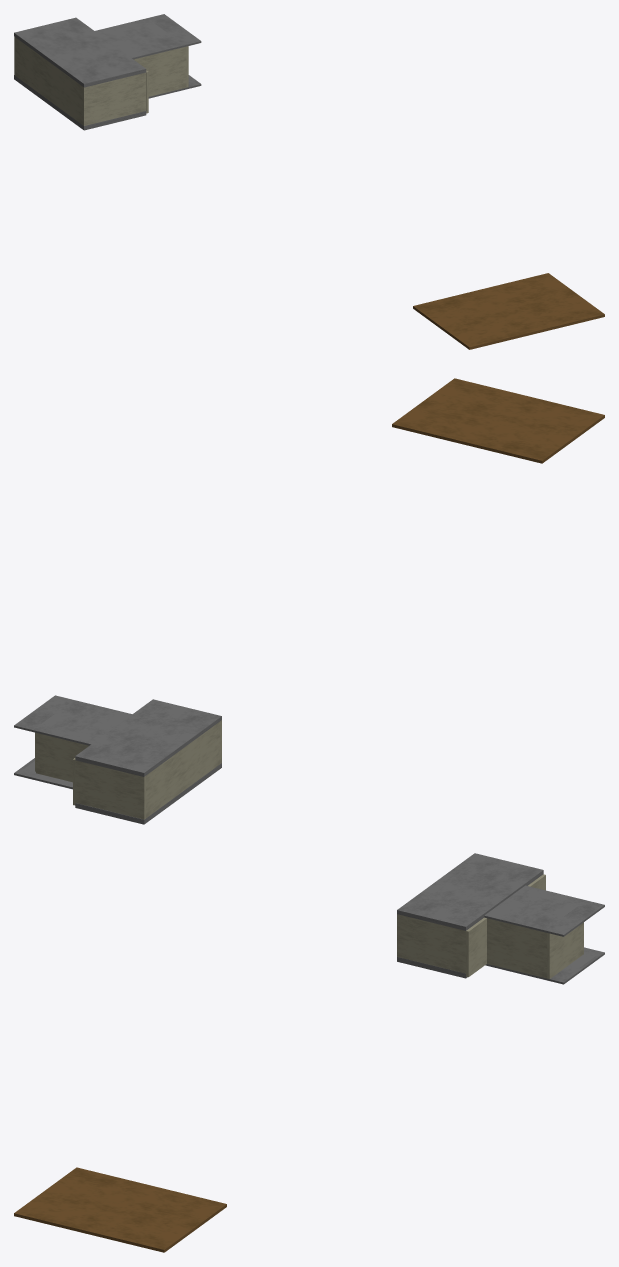
File: Frame 09. Exposed shaft pit with guide rails, buffers, ladder and service piping..fbx
The picture shows the model from 3 angles, top to bottom: view 1: azimuth 30°, elevation 25°; view 2: azimuth 150°, elevation 25°; view 3: azimuth 330°, elevation 25°; orthographic projection. The views are drawn at different scales.
Visible parts, largest first — view 1: Cube.096, Cube.206, Cube.294, Cube.292, Cube.199, Cube.197; view 2: Cube.096, Cube.206, Cube.294, Cube.293, Cube.198, Cube.197; view 3: Cube.096, Cube.206, Cube.292, Cube.199, Cube.200, Cube.197, Cube.207.
Part boxes in pixels (box(x1,y1,x2,y2)): Cube.096: box(413, 273, 604, 349); Cube.206: box(14, 14, 201, 87); Cube.294: box(15, 38, 82, 124); Cube.292: box(82, 72, 145, 125); Cube.199: box(134, 46, 186, 96); Cube.197: box(14, 75, 201, 130); Cube.096: box(392, 378, 604, 463); Cube.206: box(14, 695, 221, 776); Cube.294: box(146, 721, 220, 818); Cube.293: box(75, 760, 145, 819); Cube.198: box(36, 733, 88, 782); Cube.197: box(14, 758, 221, 824); Cube.096: box(14, 1167, 226, 1252); Cube.206: box(397, 853, 604, 936); Cube.292: box(397, 914, 465, 973); Cube.199: box(487, 918, 546, 978); Cube.200: box(547, 922, 583, 978); Cube.197: box(397, 947, 604, 984); Cube.207: box(466, 917, 486, 977).
Size of the model in its own units: 12594 by 3600 by 61023.
